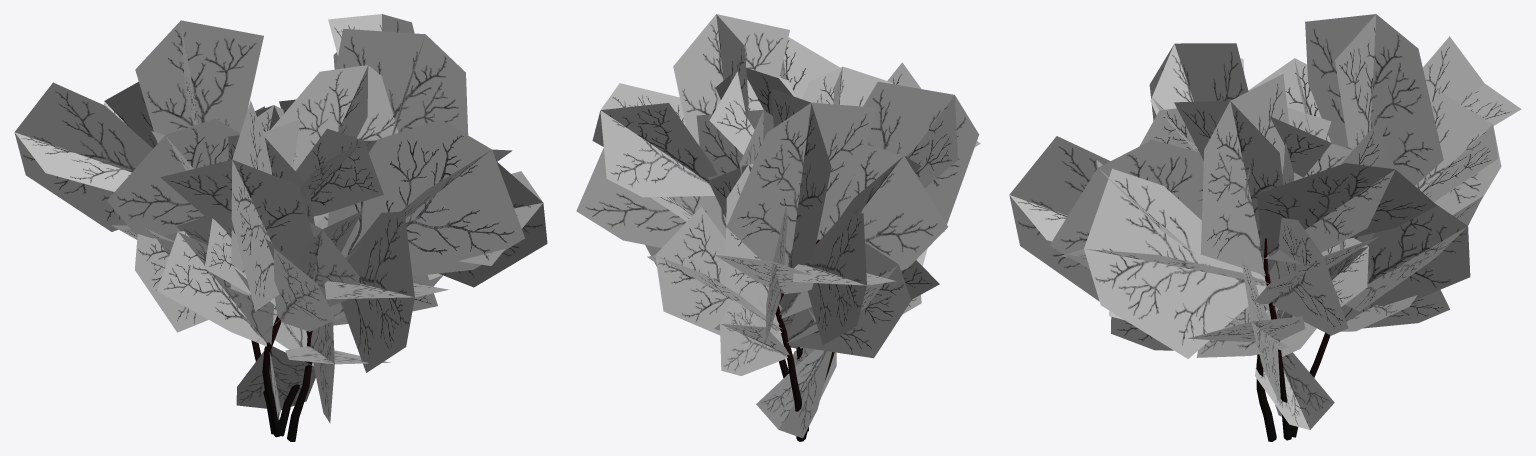
The model's file is Bush_A_02.fbx.
3 renders of one model, left to right at view 1: azimuth 30°, elevation 25°; view 2: azimuth 150°, elevation 25°; view 3: azimuth 270°, elevation 25°, orthographic. The views are drawn at different scales.
Parts seen in each view (by area): view 1: Bush_A_02_LOD0; view 2: Bush_A_02_LOD0; view 3: Bush_A_02_LOD0.
Boxes of the visible parts, x1=… form: Bush_A_02_LOD0: x1=14, y1=14, x2=547, y2=441; Bush_A_02_LOD0: x1=576, y1=14, x2=980, y2=441; Bush_A_02_LOD0: x1=1009, y1=14, x2=1521, y2=441.
Size of what is drawn, in the model's own units: 475 by 485 by 566.
